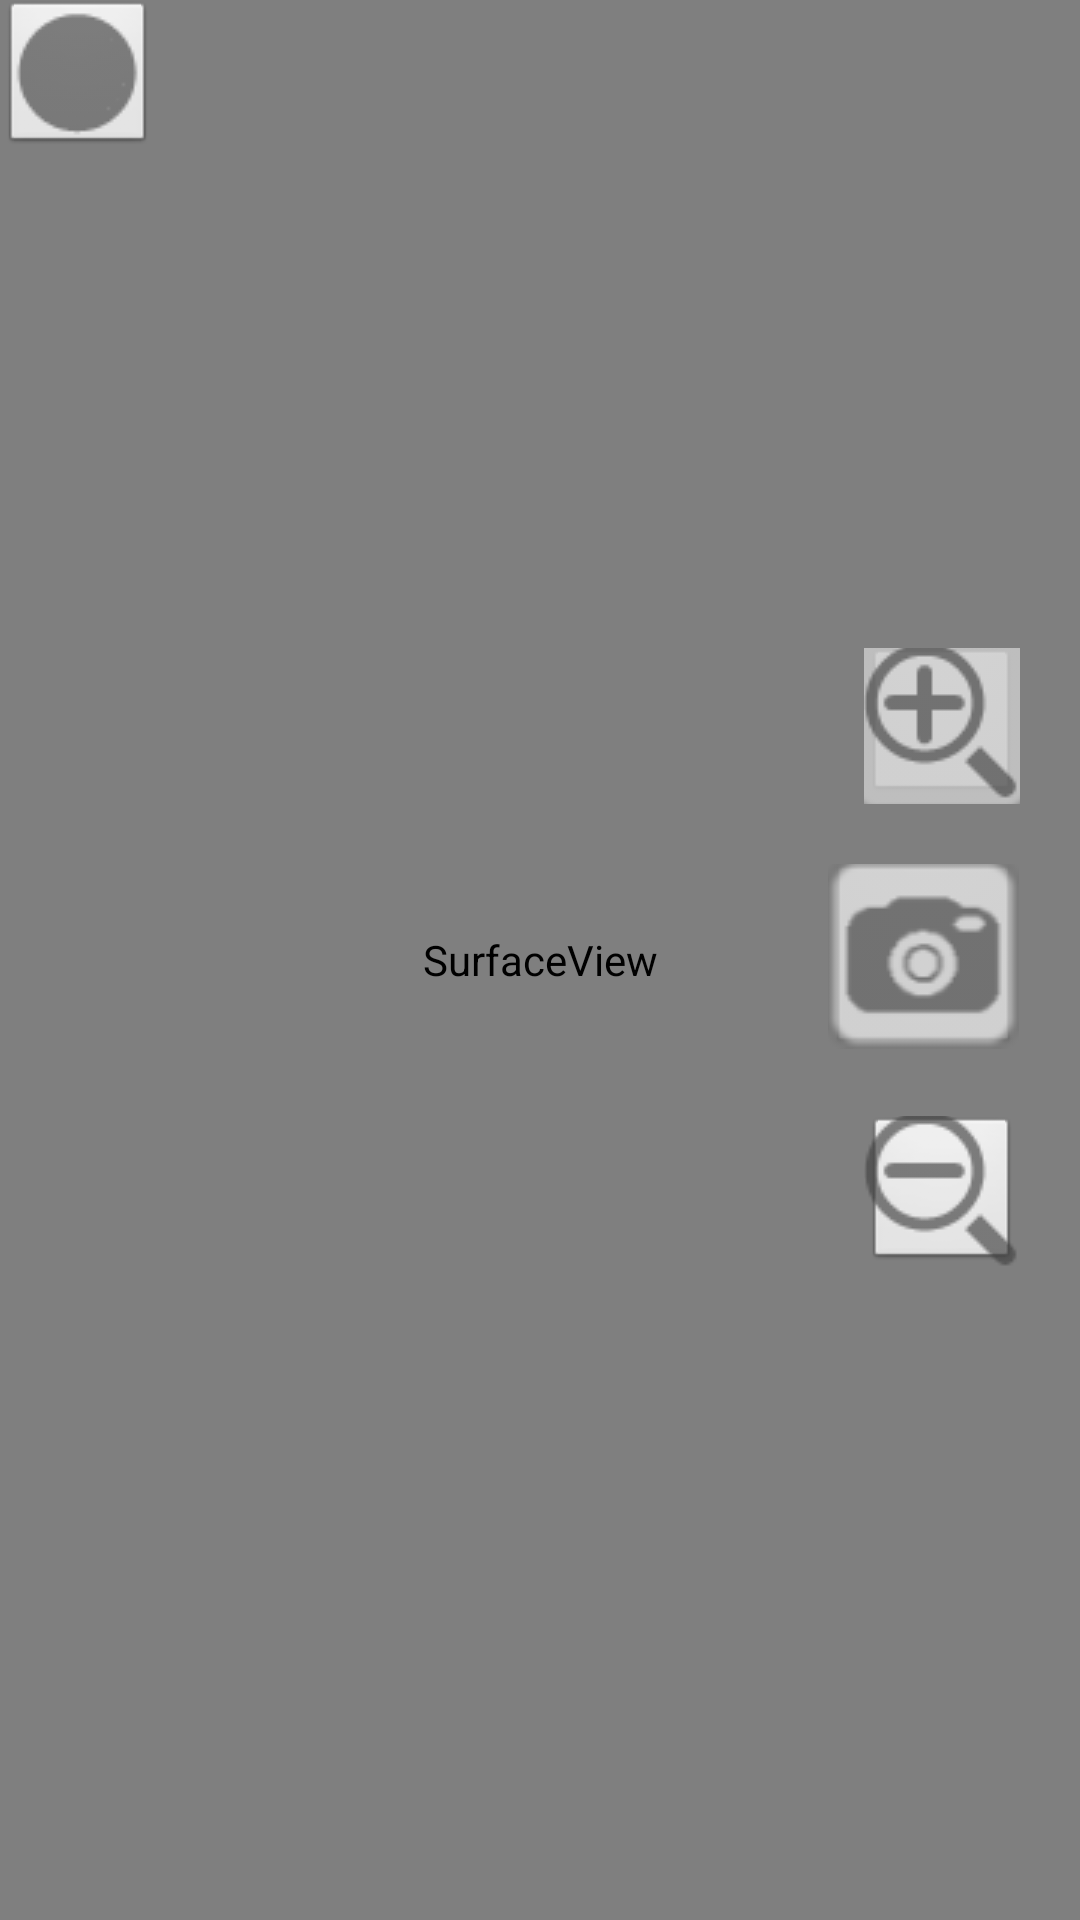

Locate icon controls on the screen. Image size 1080x1920, boxes as region(x1, y1, x2, y2).
camera: region(833, 864, 1013, 1043)
record: region(9, 4, 145, 141)
zoomin: region(864, 648, 1020, 804)
zoomout: region(866, 1116, 1015, 1265)
